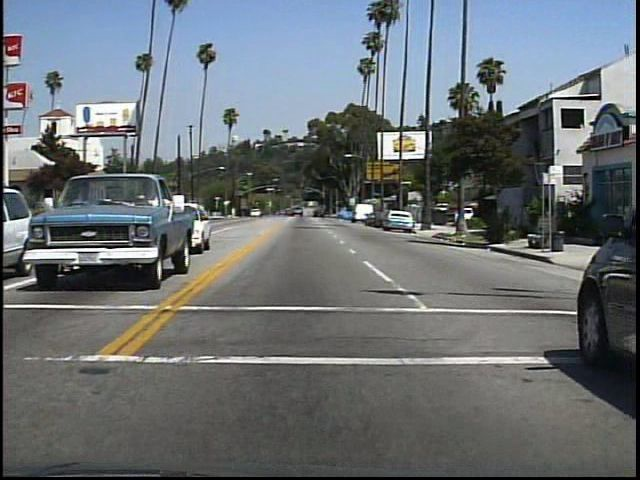person: (499, 199, 523, 248)
